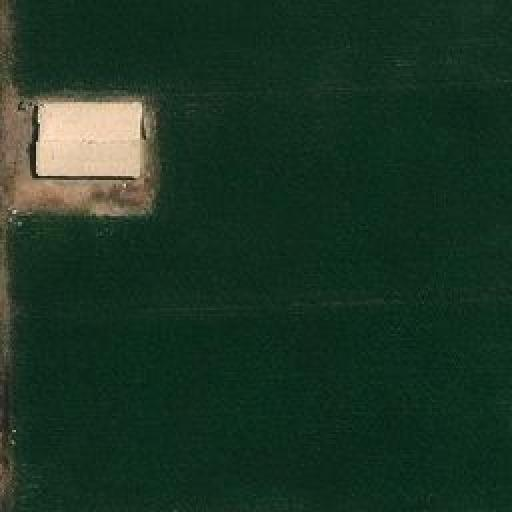manzanas: (15, 96, 155, 224)
